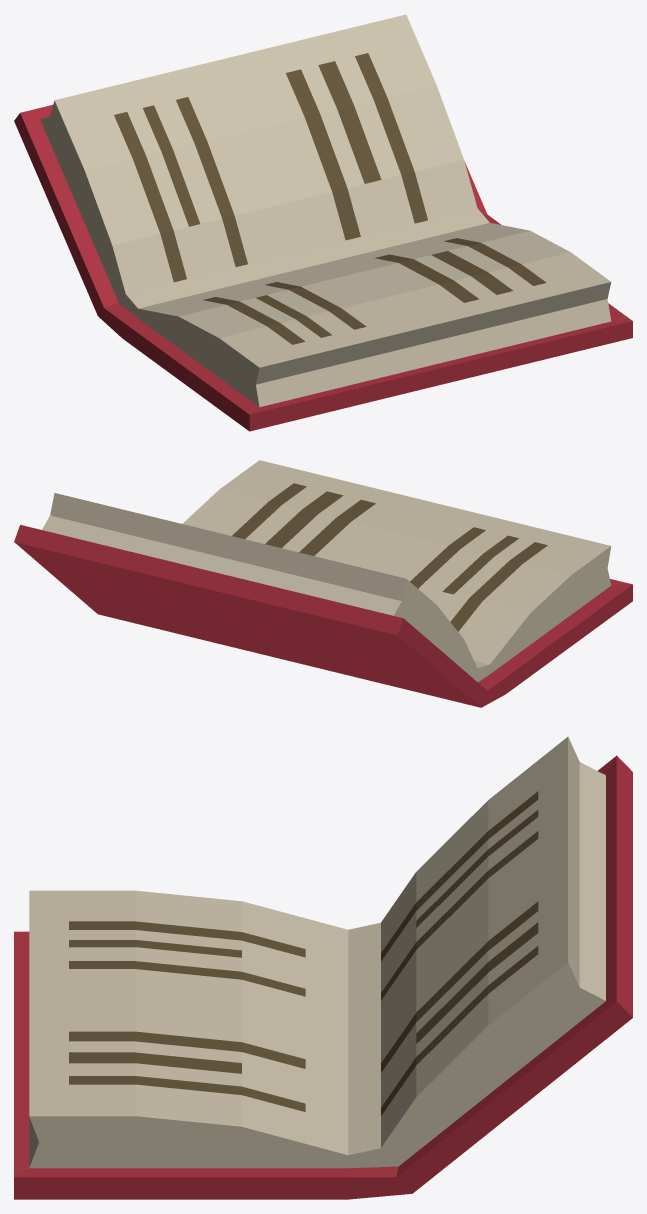
The model's file is quaternius-modular-dungeon-book-2.glb.
3 views of the same model, one above another, from view 1: azimuth 30°, elevation 25°; view 2: azimuth 150°, elevation 25°; view 3: azimuth 270°, elevation 25° (orthographic). The views are drawn at different scales.
Visible parts, largest first — view 1: Book2; view 2: Book2; view 3: Book2.
Part boxes in pixels (left/top/right/bottom): Book2: left=14, top=14, right=632, bottom=431; Book2: left=14, top=460, right=632, bottom=707; Book2: left=14, top=736, right=632, bottom=1199.
Size of the model in its own units: 1.19 by 0.515 by 1.27.
